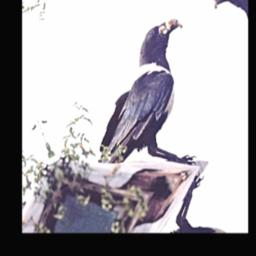Crow: (59, 12, 231, 210)
